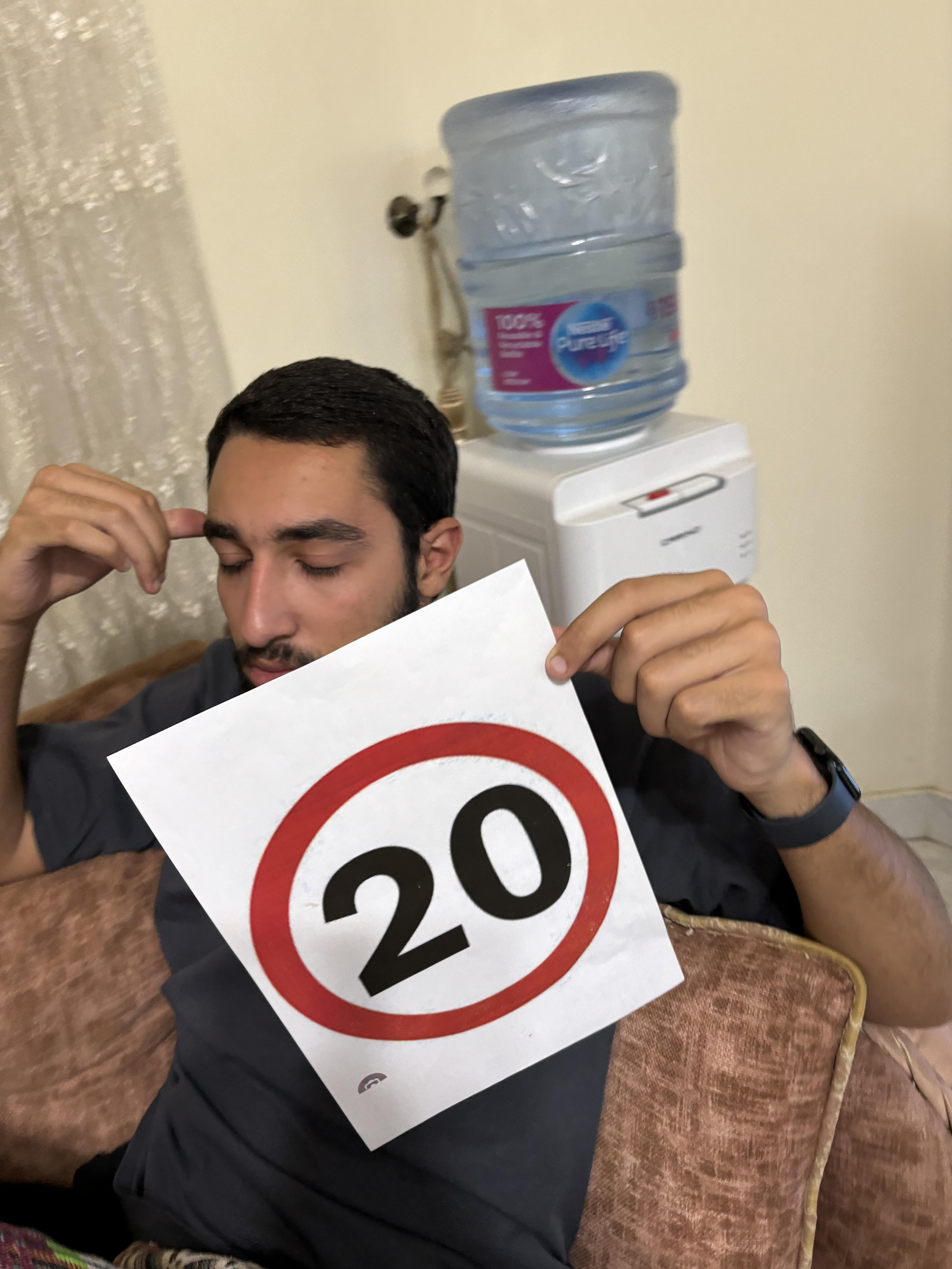20-Speed: (214, 716, 626, 1041)
